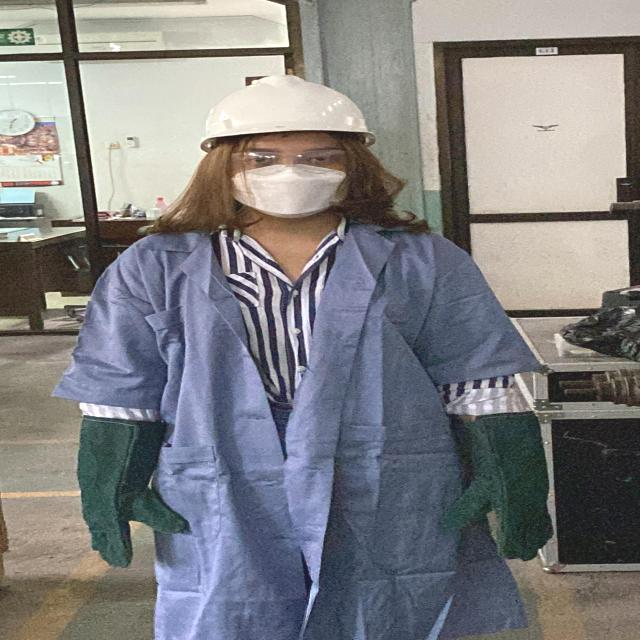face_mask: (217, 146, 354, 216)
glasses: (226, 147, 354, 177)
hand_glove: (423, 466, 574, 564), (84, 472, 196, 564)
head_helmet: (194, 73, 377, 145)
person: (60, 67, 554, 640)
